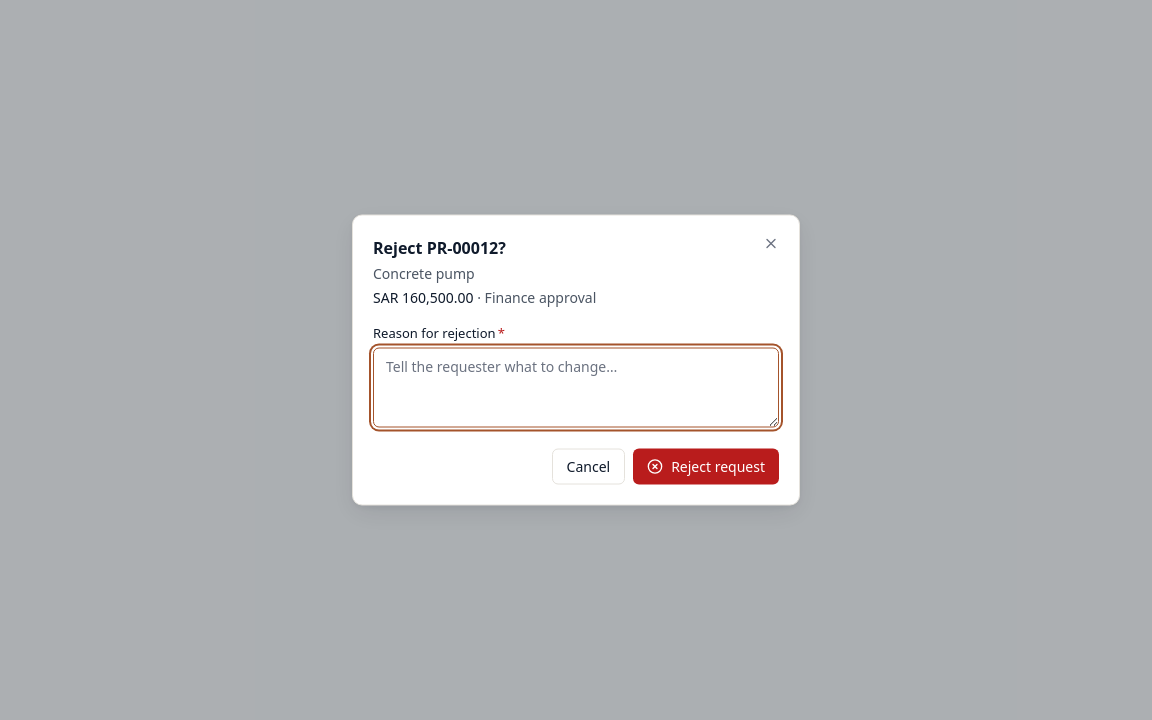
Test: DecisionDialog › requires a comment to reject and never calls the API without one
Expected: the text "SAR 160,500.00" is shown, [373,288,474,306]
What coordinates should you click on to do the following:
click the button "Reject request"
I would click on:
 (706, 466)
Its box is [633,448,779,484].
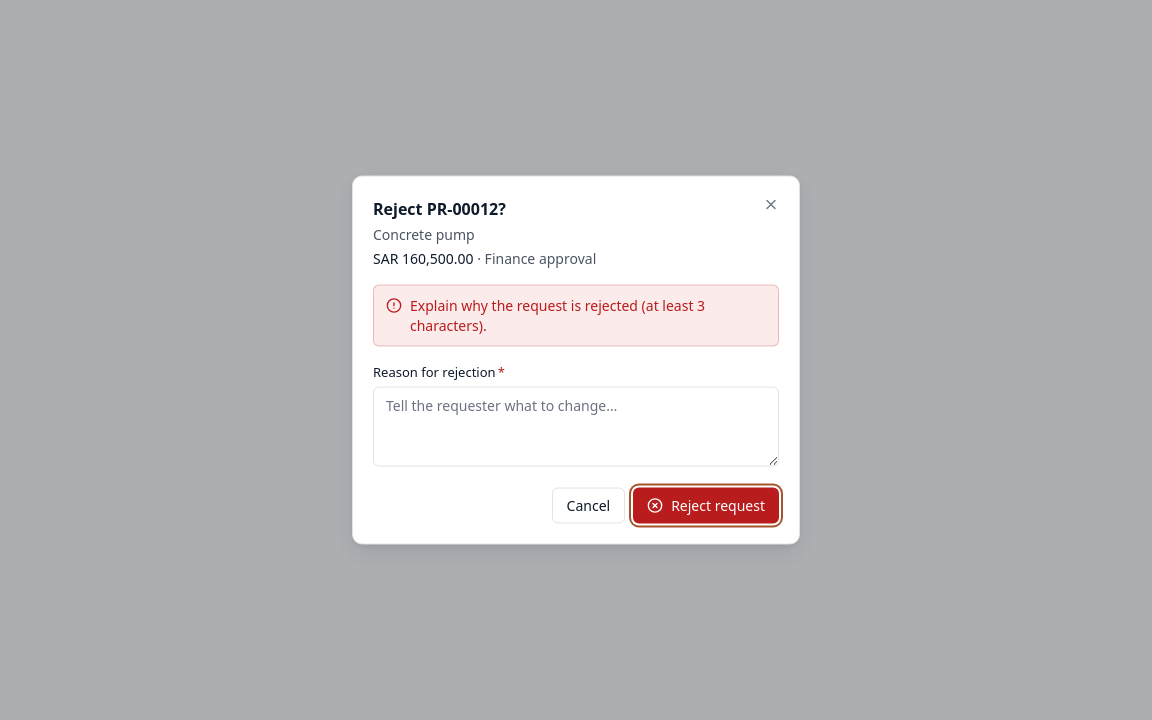
Expected: the message shows "Explain why", [410,296,705,334]
